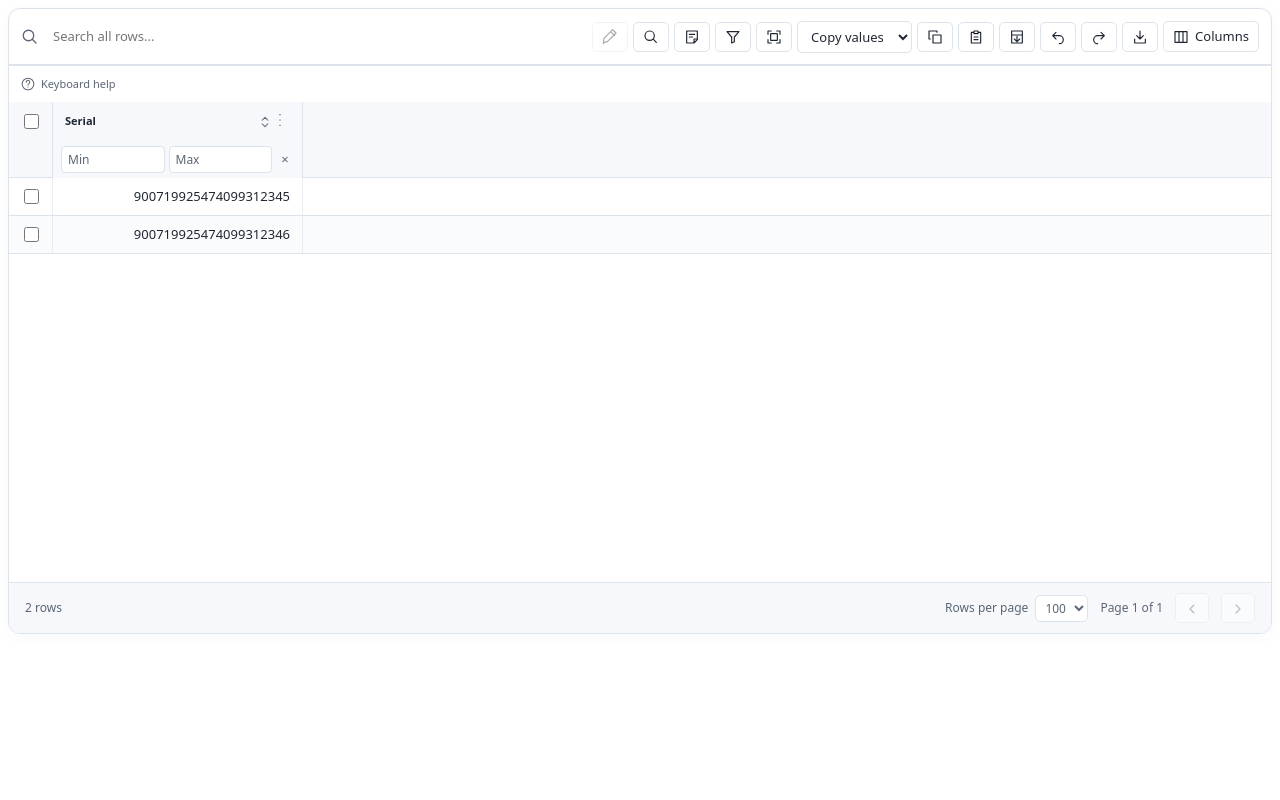
Scenario: controlled inclusive range filter › preserves BigInt precision and validates integer bounds without Number coercion
Type "900719925474099312346" into the field named "Filter Serial minimum".
click(113, 159); type("900719925474099312346")  # box 61,146 -> 164,172
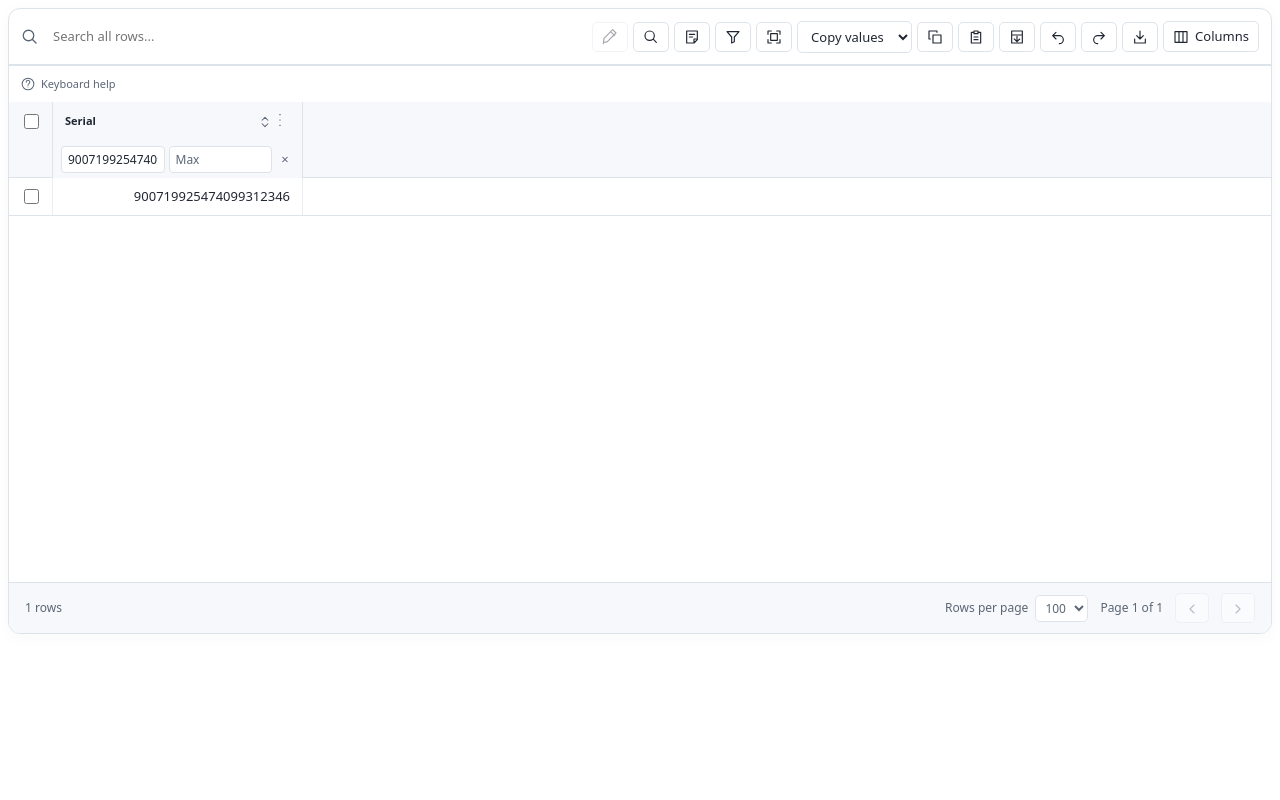
Type "900719925474099312346.5" into the field named "Filter Serial maximum".
click(220, 159); type("900719925474099312346.5")  # box 168,146 -> 272,172
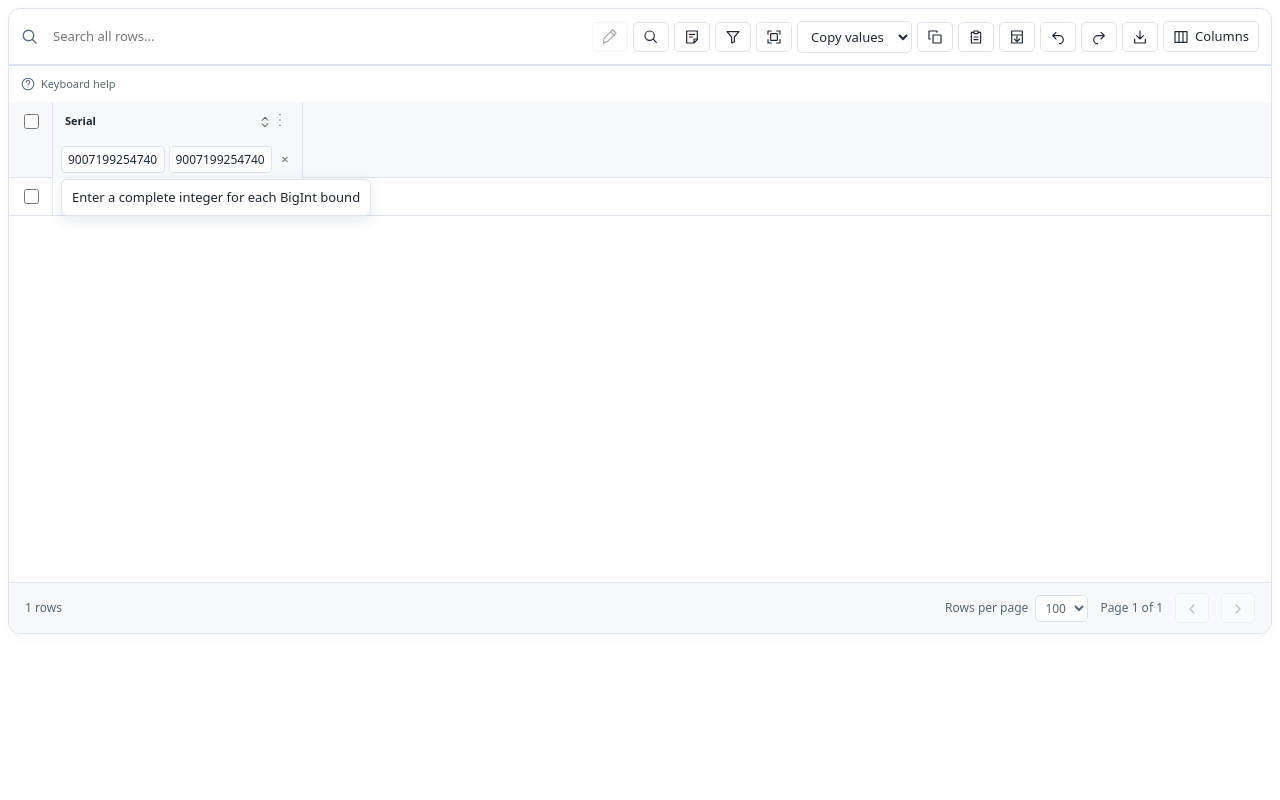
Result: the message shows "complete integer" at 72,188 -> 360,206
